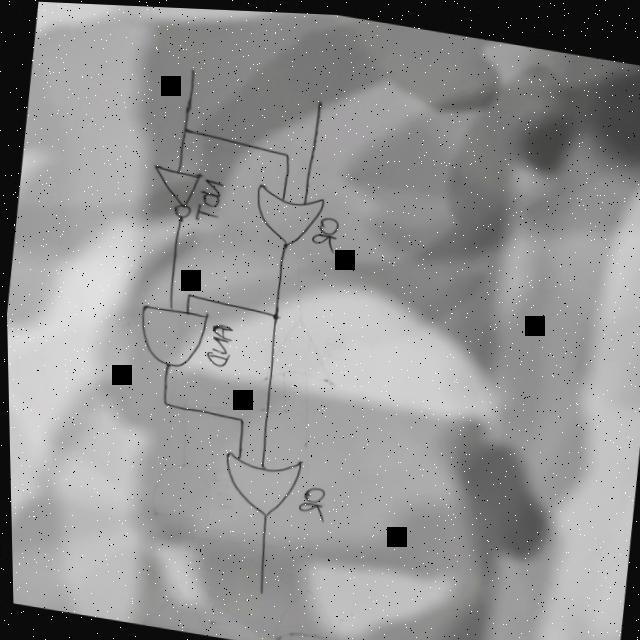junction: (174, 118, 193, 135), (153, 394, 169, 408), (230, 411, 247, 424), (265, 308, 278, 318), (278, 147, 290, 156), (180, 289, 192, 298)
terminal: (183, 62, 197, 75), (252, 582, 264, 595), (312, 94, 323, 105)
text: (190, 174, 224, 222), (201, 318, 232, 366), (292, 480, 326, 521), (305, 210, 338, 252)
